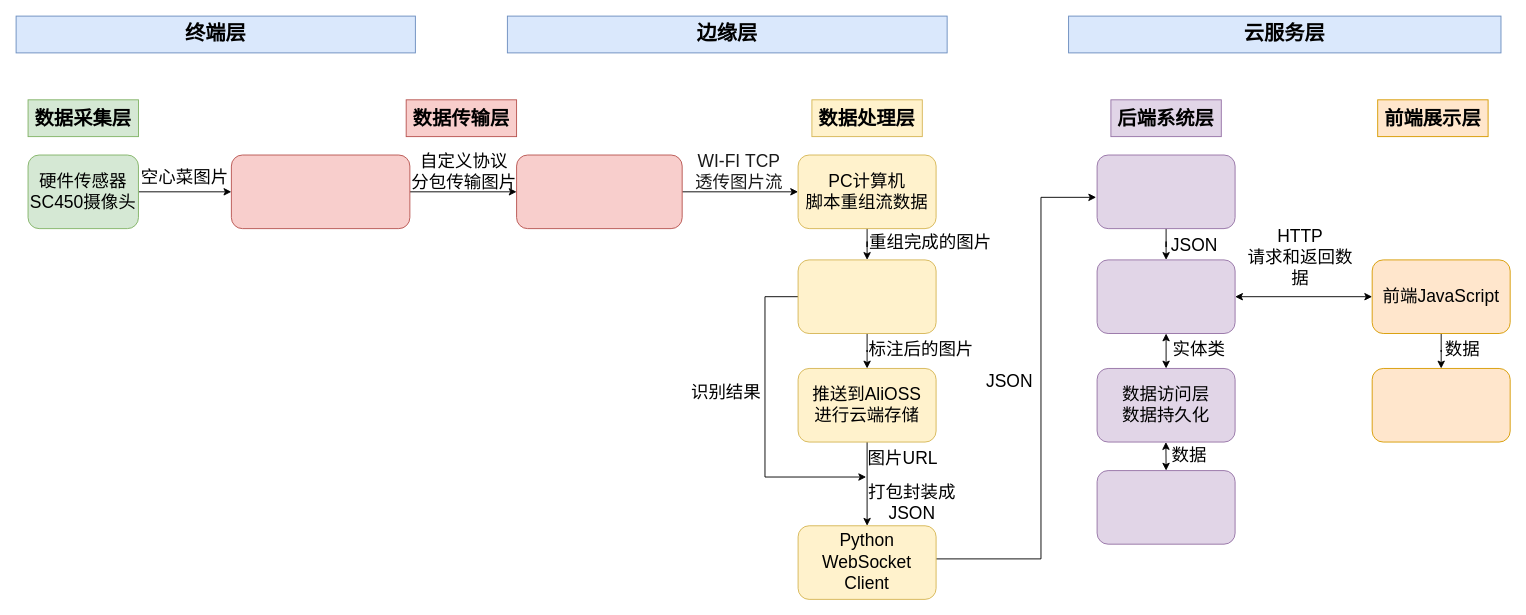
Some shapes in this 1526 by 615 pixel diagram are drawn without their labels. Each missing label, with the box of its shape:
WebSocket Server 接收数据: (1096, 154, 1235, 229)
YOLO-v8 识别空心菜长势: (797, 259, 936, 334)
业务逻辑层 解析数据: (1096, 259, 1235, 334)
前端Vue: (1371, 368, 1510, 442)
带星闪模块的开发板 Hi3516DV500 星闪Client: (230, 154, 410, 229)
支持多模块的开发板 Hi3863 星闪Server: (516, 154, 682, 229)
数据库: (1096, 470, 1235, 544)
